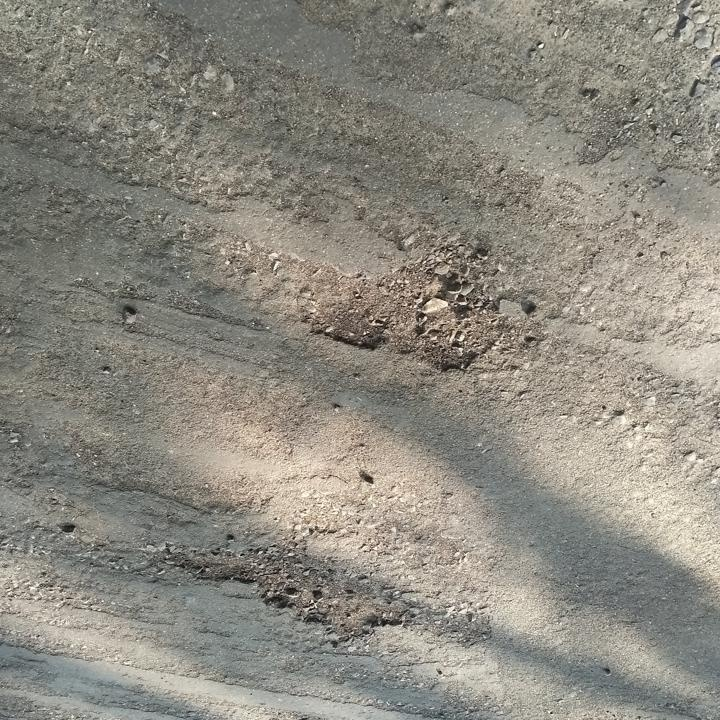pothole: (303, 232, 505, 380), (164, 531, 420, 646)
